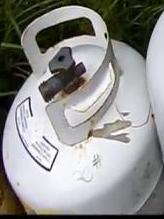cylinder: (1, 0, 164, 219)
